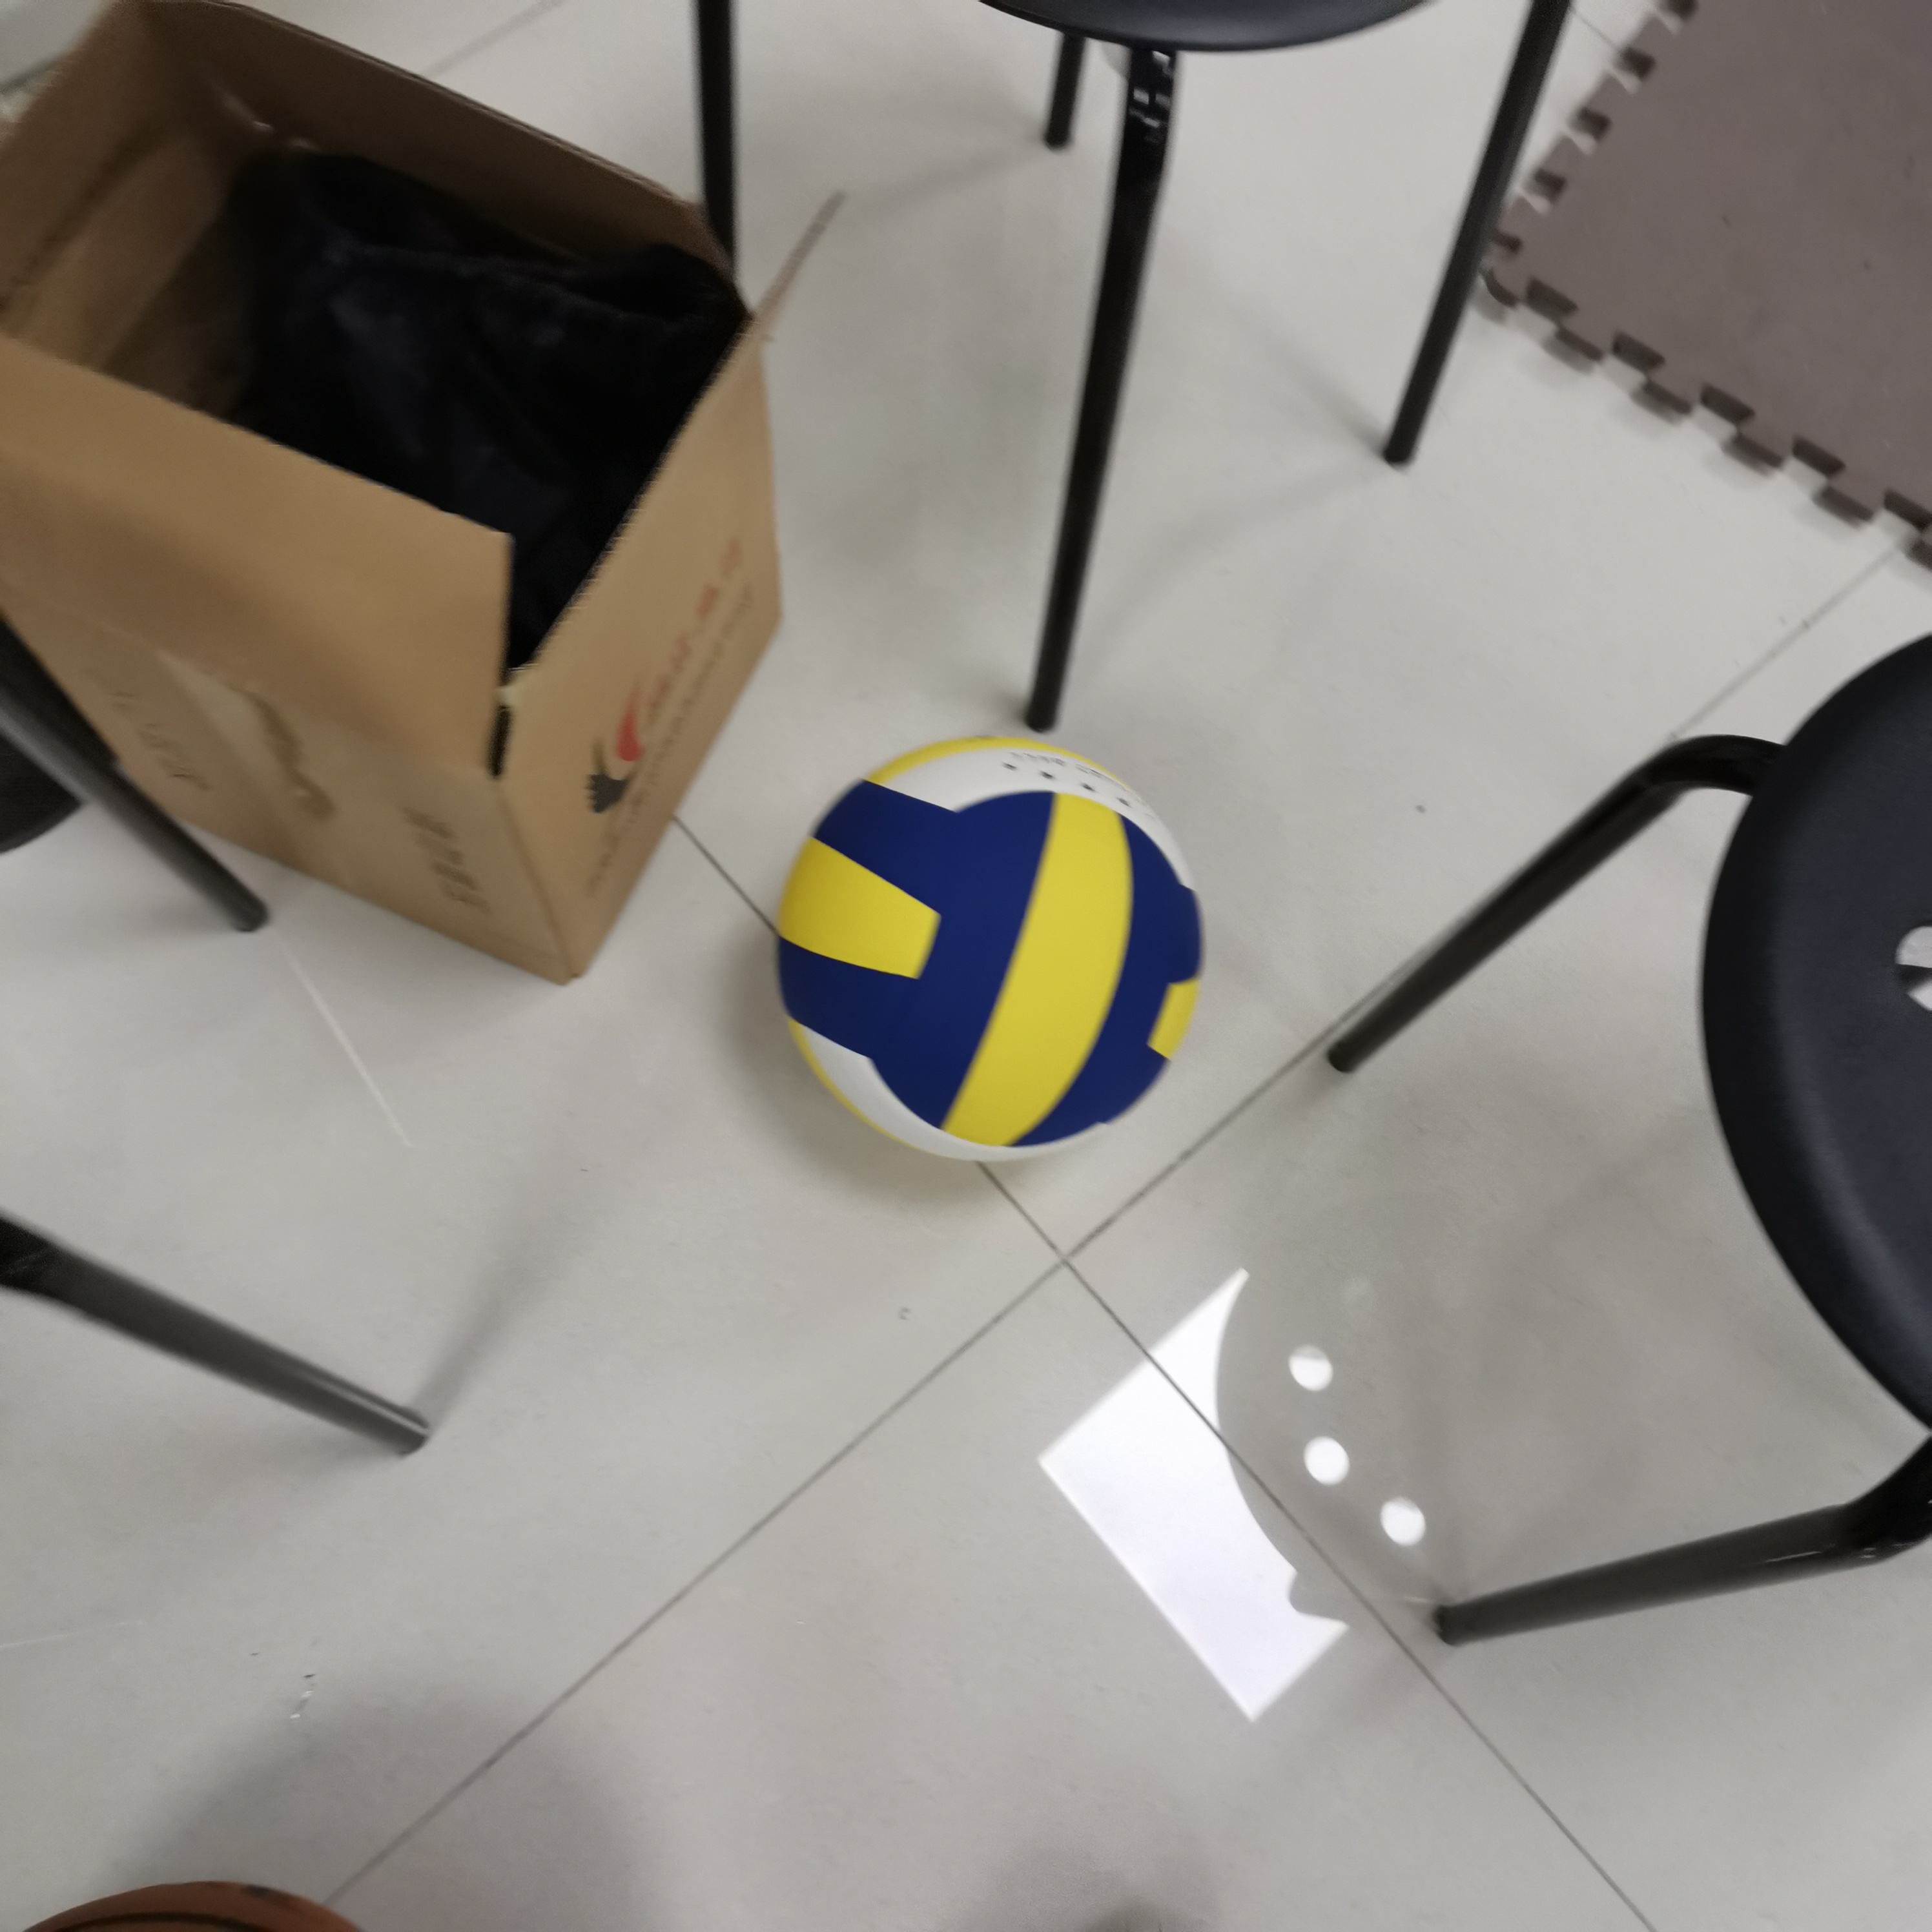volleyball: (775, 727, 1215, 1161)
